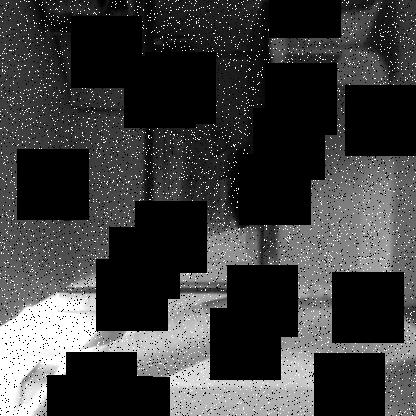Porte: (138, 1, 282, 275)
